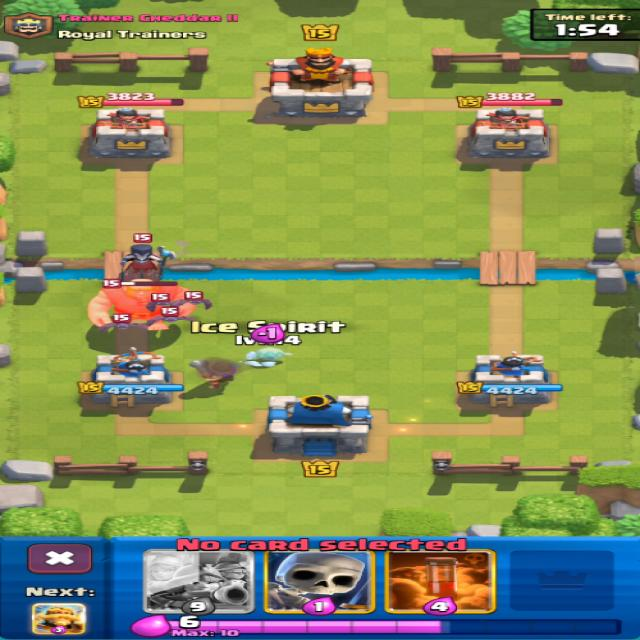Enemy-Bat: (147, 307, 193, 327), (169, 292, 211, 310), (99, 321, 146, 332), (147, 294, 170, 311)
Enemy-Giant: (88, 286, 196, 330)
Enemy-KingTower: (269, 49, 372, 116)
Enemy-NightWitch: (120, 244, 174, 278)
Enemy-PrincessTower: (457, 108, 550, 166), (88, 107, 170, 162)
